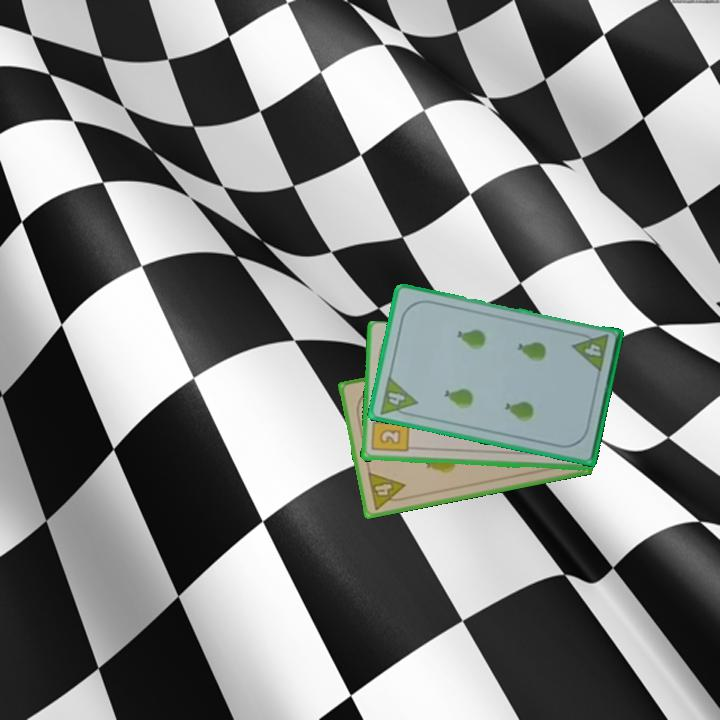2b: (368, 412, 411, 455)
4p: (364, 468, 410, 512), (377, 373, 420, 420), (569, 329, 611, 375)
